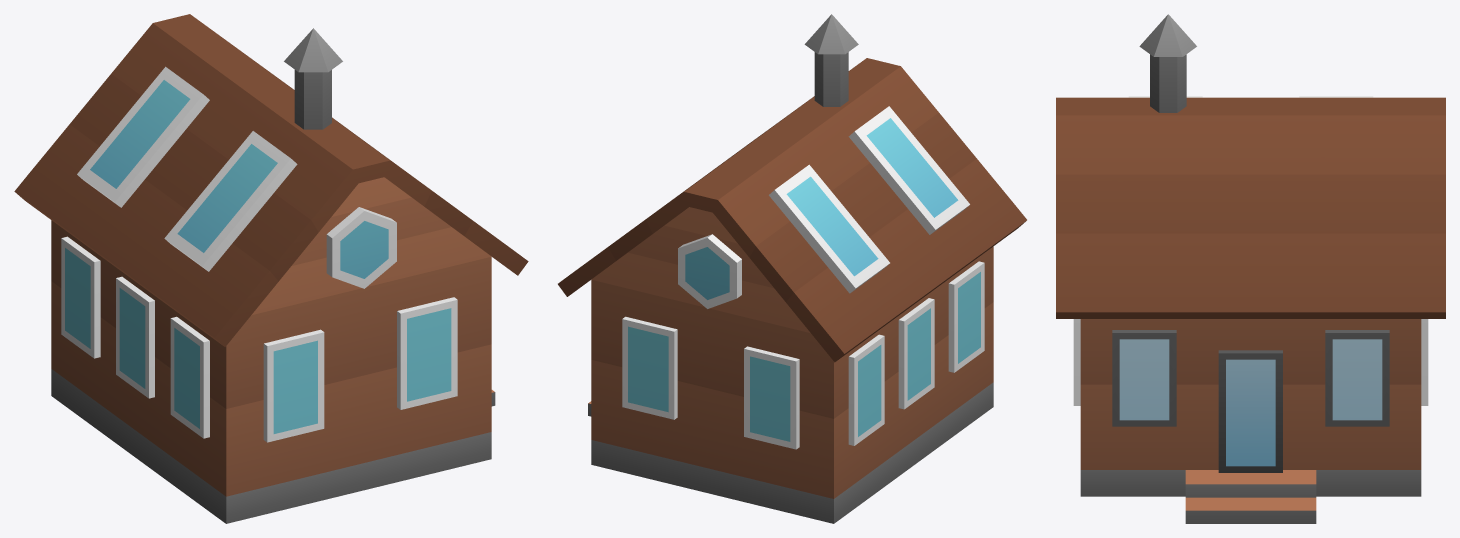
File: bath.fbx
3 views of the same model, side by side, from view 1: azimuth 30°, elevation 25°; view 2: azimuth 150°, elevation 25°; view 3: azimuth 270°, elevation 25° (orthographic). The views are drawn at different scales.
Visible parts, largest first — view 1: bath; view 2: bath; view 3: bath.
Boxes of the visible parts, box(x1,y1,x2,y2) form: bath: box(14, 14, 528, 523); bath: box(558, 14, 1026, 523); bath: box(1056, 14, 1445, 523).
Bounding box in the file's own units: 492 × 584 × 492.
Materials: 1 (1 with a texture image).
